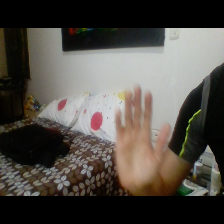left: (108, 78, 177, 188)
